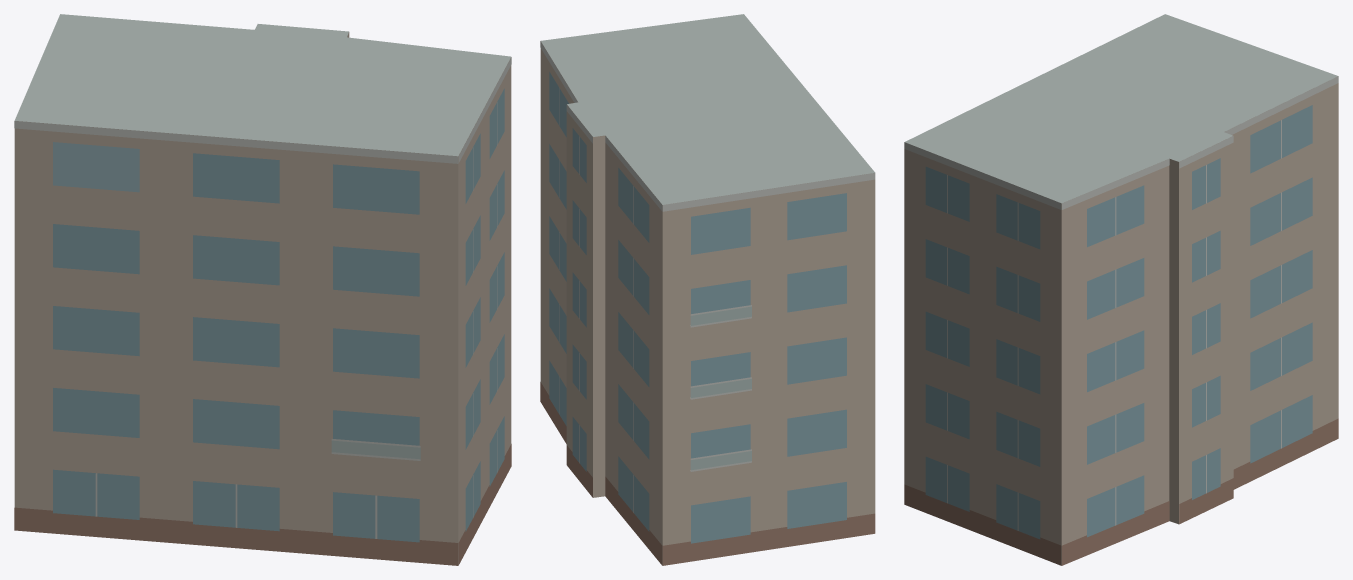
File: survey-upis-32651968.glb
3 renders of one model, left to right at view 1: azimuth 30°, elevation 25°; view 2: azimuth 150°, elevation 25°; view 3: azimuth 270°, elevation 25°, orthographic. The views are drawn at different scales.
Visible parts, largest first — view 1: survey-upis-32651968.tmp; view 2: survey-upis-32651968.tmp; view 3: survey-upis-32651968.tmp.
Boxes of the visible parts, bbox=[...] form: survey-upis-32651968.tmp: bbox=[14, 14, 511, 565]; survey-upis-32651968.tmp: bbox=[540, 14, 875, 565]; survey-upis-32651968.tmp: bbox=[904, 14, 1338, 565].
Bounding box in the file's own units: 14.57 × 13 × 14.12.
